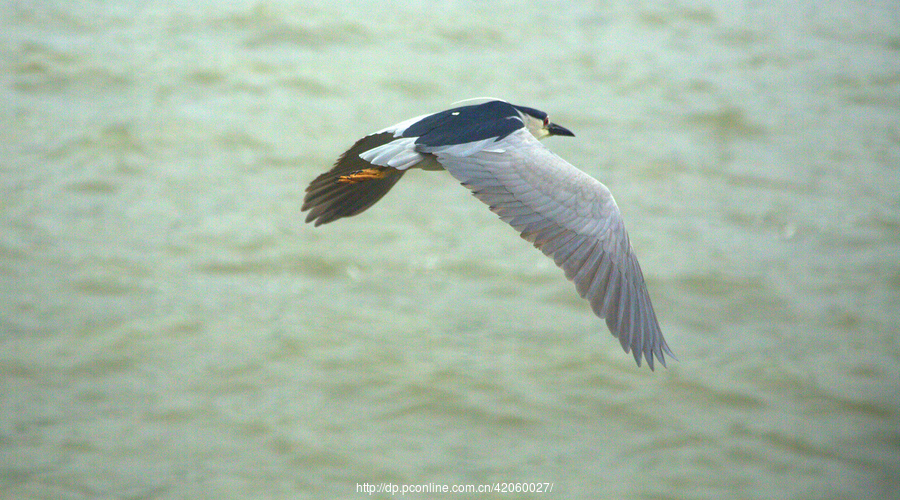bird: (291, 94, 688, 372)
